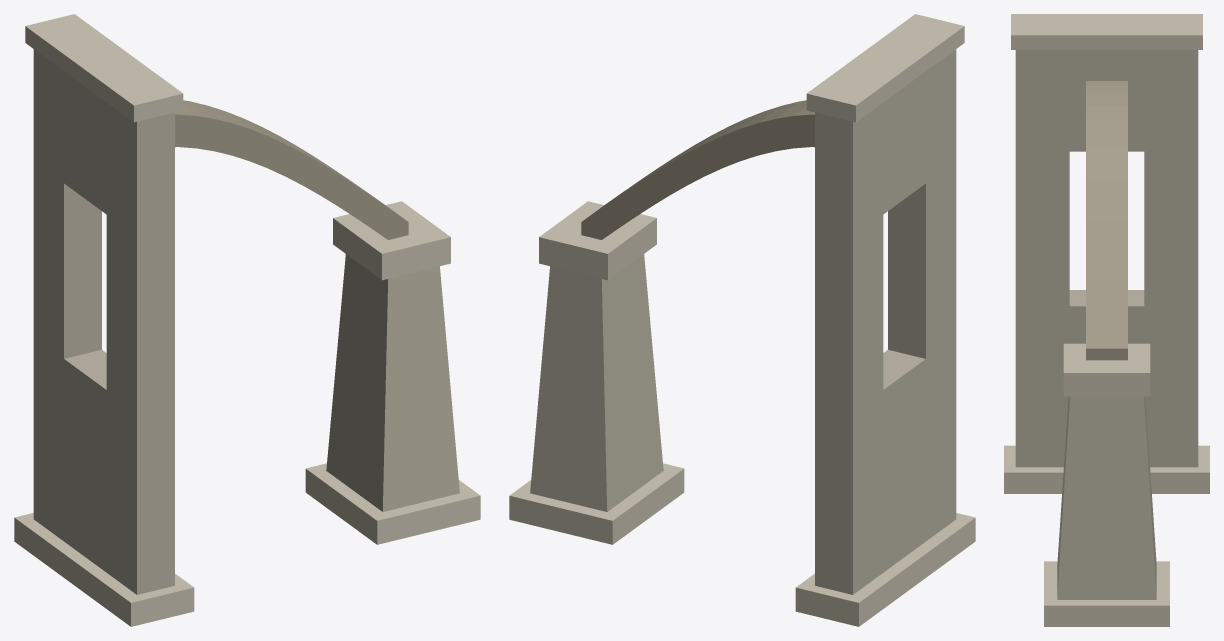
3 renders of one model, left to right at view 1: azimuth 30°, elevation 25°; view 2: azimuth 150°, elevation 25°; view 3: azimuth 270°, elevation 25°, orthographic. The views are drawn at different scales.
Parts seen in each view (by area): view 1: WholeHighWallWithThroughWindow, WholeTaperedOuterButtressPier, WholeRisingCurvedFlyingArch, WholeHighWallCoping, WholeHighWallFoot, WholeOuterPierFoot, WholeOuterPierReceivingCap; view 2: WholeHighWallWithThroughWindow, WholeTaperedOuterButtressPier, WholeRisingCurvedFlyingArch, WholeHighWallCoping, WholeHighWallFoot, WholeOuterPierFoot, WholeOuterPierReceivingCap; view 3: WholeHighWallWithThroughWindow, WholeTaperedOuterButtressPier, WholeRisingCurvedFlyingArch, WholeHighWallCoping, WholeOuterPierFoot, WholeOuterPierReceivingCap, WholeHighWallFoot.
Boxes of the visible parts, x1,y1,x2,y2 form: WholeHighWallWithThroughWindow: (33,49,174,594); WholeTaperedOuterButtressPier: (326,254,459,511); WholeRisingCurvedFlyingArch: (175,100,408,239); WholeHighWallCoping: (25,14,183,122); WholeHighWallFoot: (14,513,194,626); WholeOuterPierFoot: (305,463,480,544); WholeOuterPierReceivingCap: (333,201,450,280); WholeHighWallWithThroughWindow: (815,49,956,594); WholeTaperedOuterButtressPier: (530,254,663,511); WholeRisingCurvedFlyingArch: (581,100,814,239); WholeHighWallCoping: (806,14,964,122); WholeHighWallFoot: (795,513,975,626); WholeOuterPierFoot: (509,463,684,544); WholeOuterPierReceivingCap: (539,201,656,280); WholeHighWallWithThroughWindow: (1015,50,1198,467); WholeTaperedOuterButtressPier: (1057,396,1156,599); WholeRisingCurvedFlyingArch: (1086,81,1127,360); WholeHighWallCoping: (1011,14,1202,49); WholeOuterPierFoot: (1044,561,1169,626); WholeOuterPierReceivingCap: (1063,343,1150,396); WholeHighWallFoot: (1004,445,1209,493).
Size of the model in its own units: 3.24 by 4.3 by 1.76.
